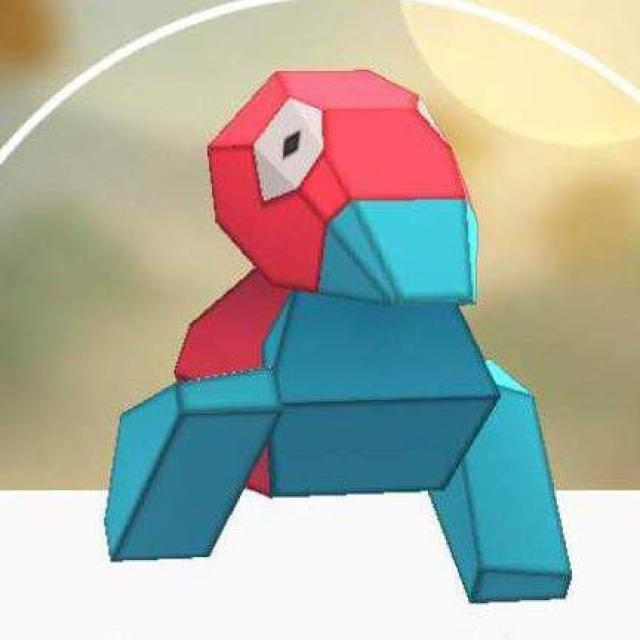Porygon: (103, 58, 552, 603)
